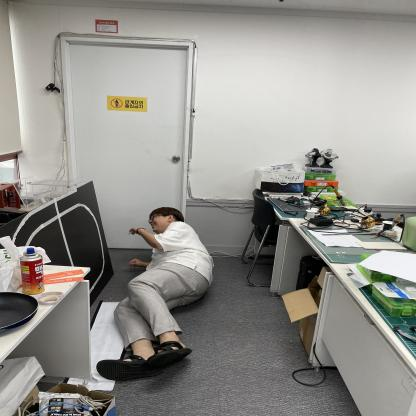fall: (118, 202, 212, 376)
